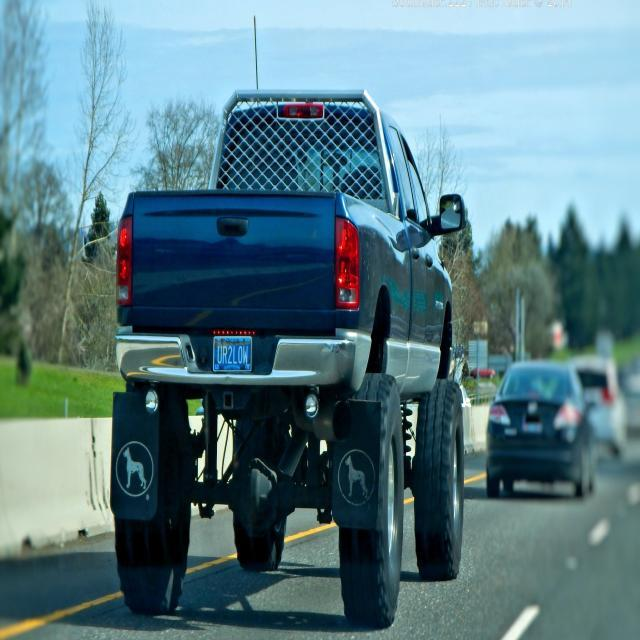person: (109, 86, 467, 627)
